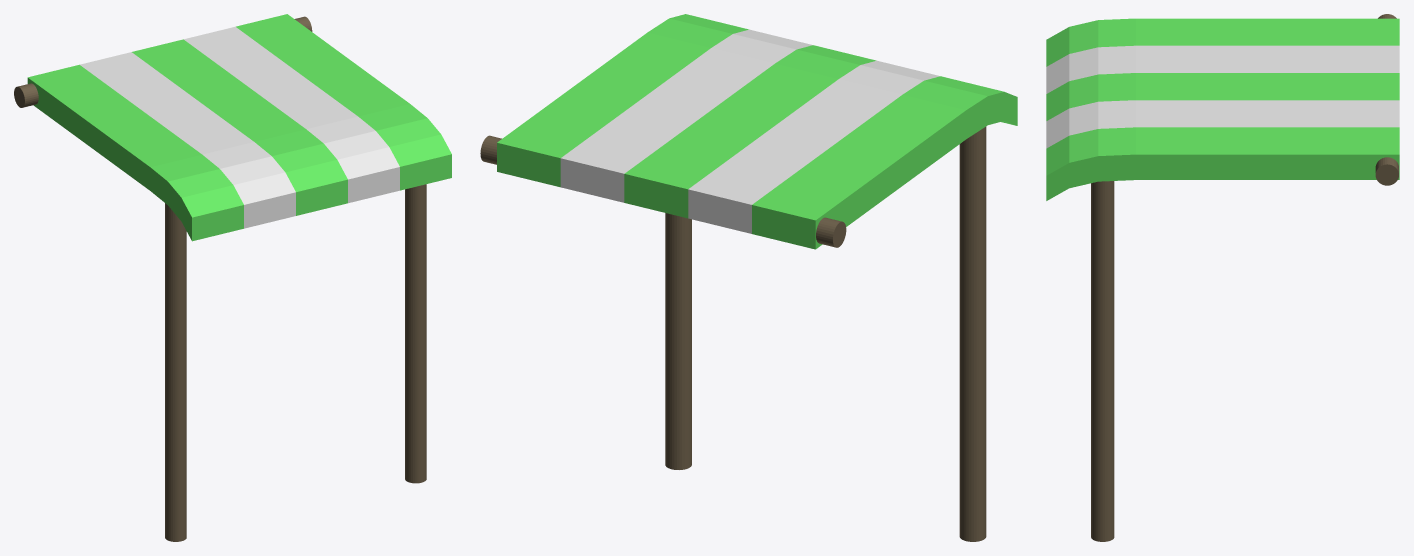
File: stand.fbx
The picture shows the model from 3 angles, left to right: view 1: azimuth 30°, elevation 25°; view 2: azimuth 150°, elevation 25°; view 3: azimuth 270°, elevation 25°; orthographic projection. The views are drawn at different scales.
Visible parts, largest first — view 1: Cube, Cylinder.003; view 2: Cube, Cylinder.003; view 3: Cube, Cylinder.003.
Part boxes in pixels (box(x1,y1,x2,y2)): Cube: box(27, 14, 451, 241); Cylinder.003: box(14, 16, 426, 541); Cube: box(497, 14, 1017, 249); Cylinder.003: box(480, 126, 986, 541); Cube: box(1046, 18, 1399, 200); Cylinder.003: box(1091, 14, 1398, 541).
Size of the model in its own units: 382 by 458 by 379.
